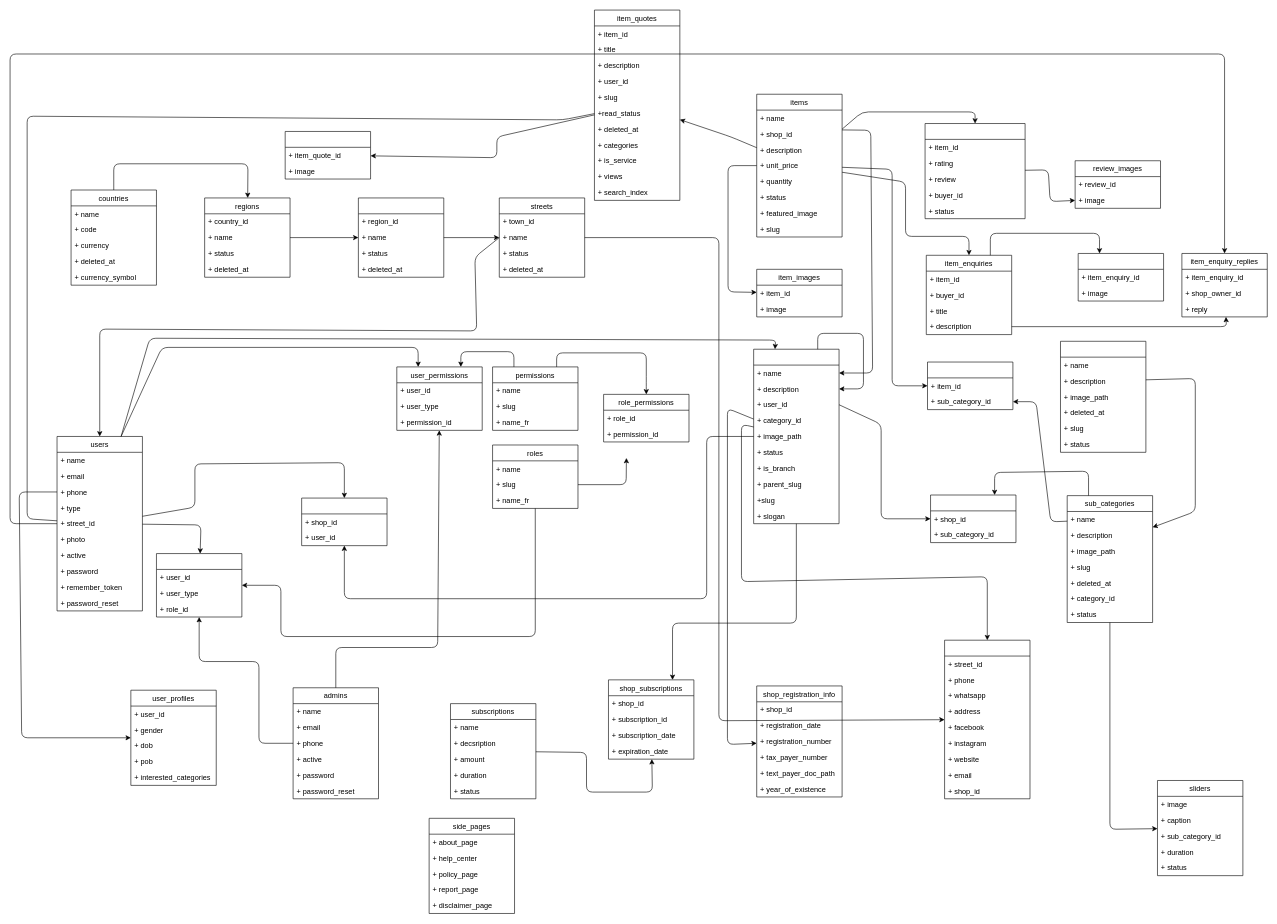
Image size: 1277x924. Some labels were removed from this diagram. Each missing label, with the box of its shape:
categories: (1060, 341, 1146, 452)
item_categories: (927, 361, 1013, 410)
item_enquiry_images: (1078, 253, 1164, 301)
item_quote_images: (285, 131, 371, 179)
reviews: (924, 123, 1025, 219)
shop_categories: (930, 494, 1016, 543)
shop_contact_info: (944, 640, 1030, 799)
shop_subscribers: (301, 497, 387, 546)
shops: (753, 349, 839, 524)
towns: (358, 197, 444, 277)
user_roles: (156, 553, 242, 617)
